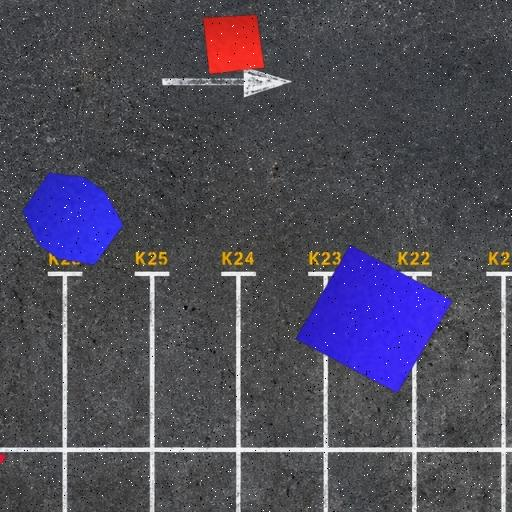BLUE_SQUARE: (295, 244, 454, 394)
RED_SQUARE: (202, 14, 266, 75)
